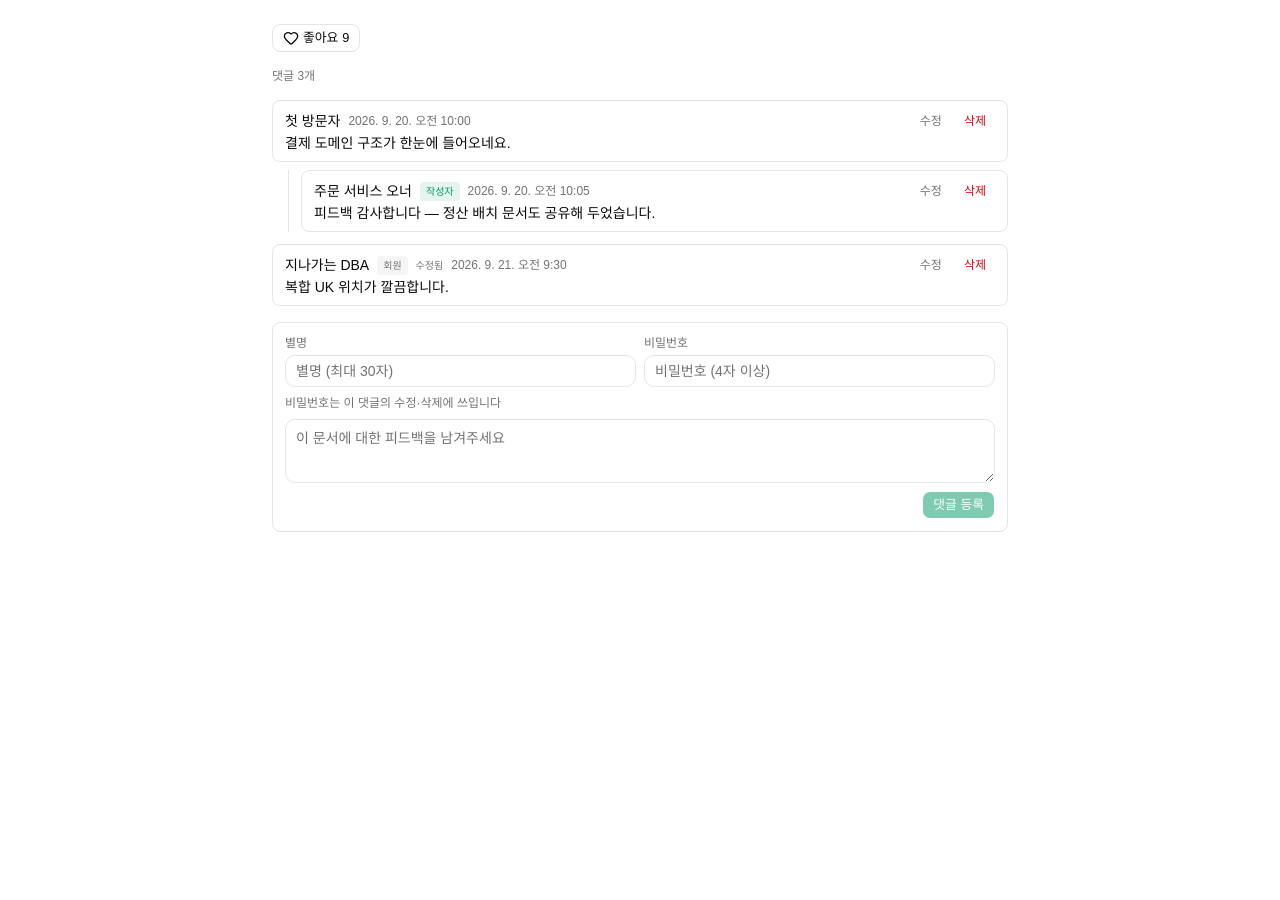
Scenario: ShareFeedbackSection — 문서 좋아요(회원전용) › informs guests to sign in without sending the request
Expected: the list with test id "share-comment-list" is shown, [272, 100, 1008, 306]
Click the button with test id "share-reaction-button" at (316, 38), box [272, 24, 360, 52]
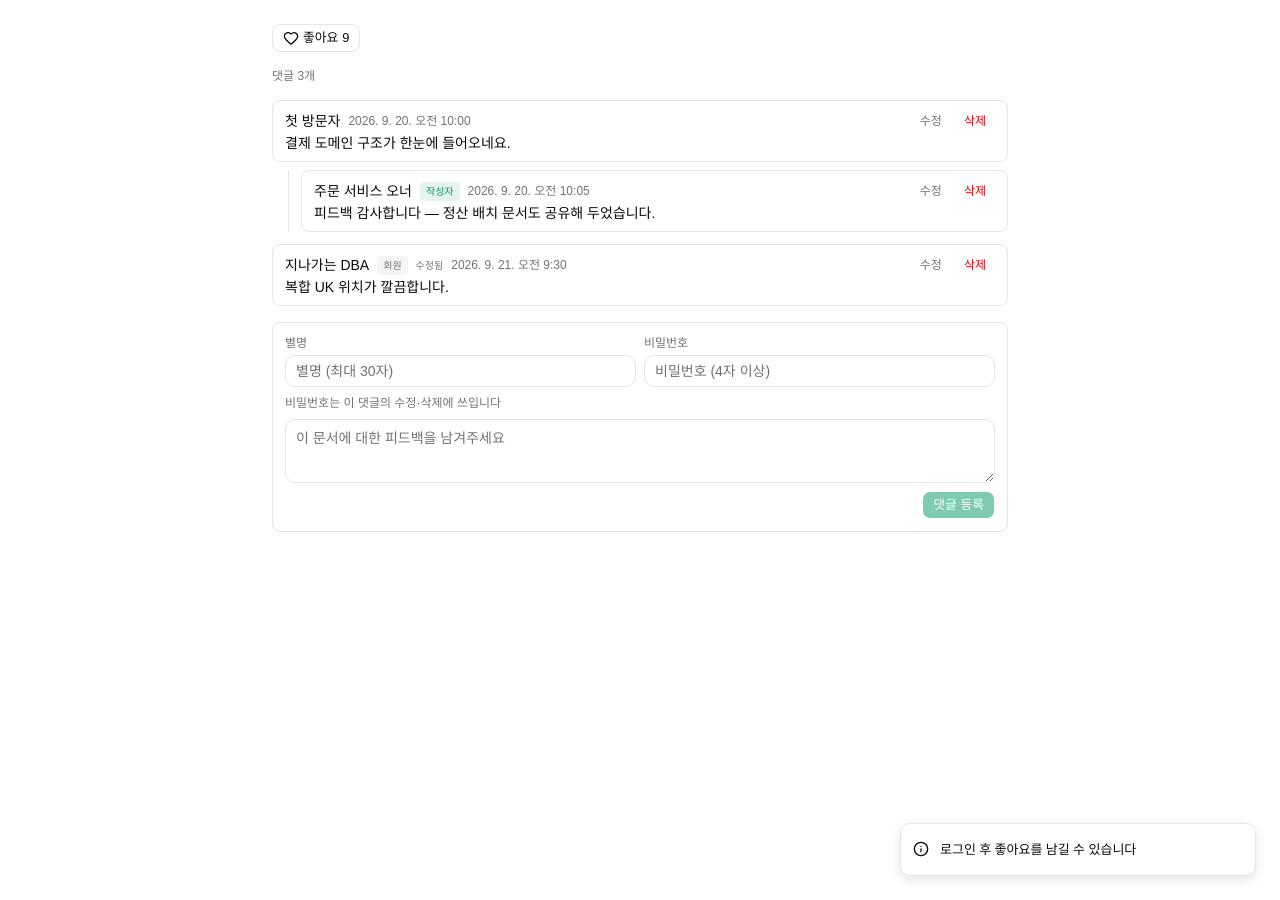
Expected: the text with test id "share-reaction-count" reads "9", [342, 30, 349, 45]
Expected: the text "로그인 후 좋아요를 남길 수 있습니다" is shown, [940, 840, 1136, 859]
